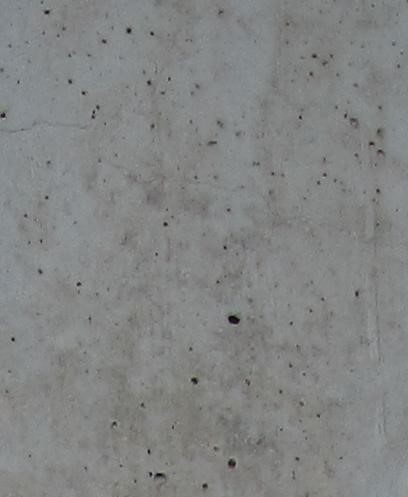Spalling: (1, 1, 408, 497)
